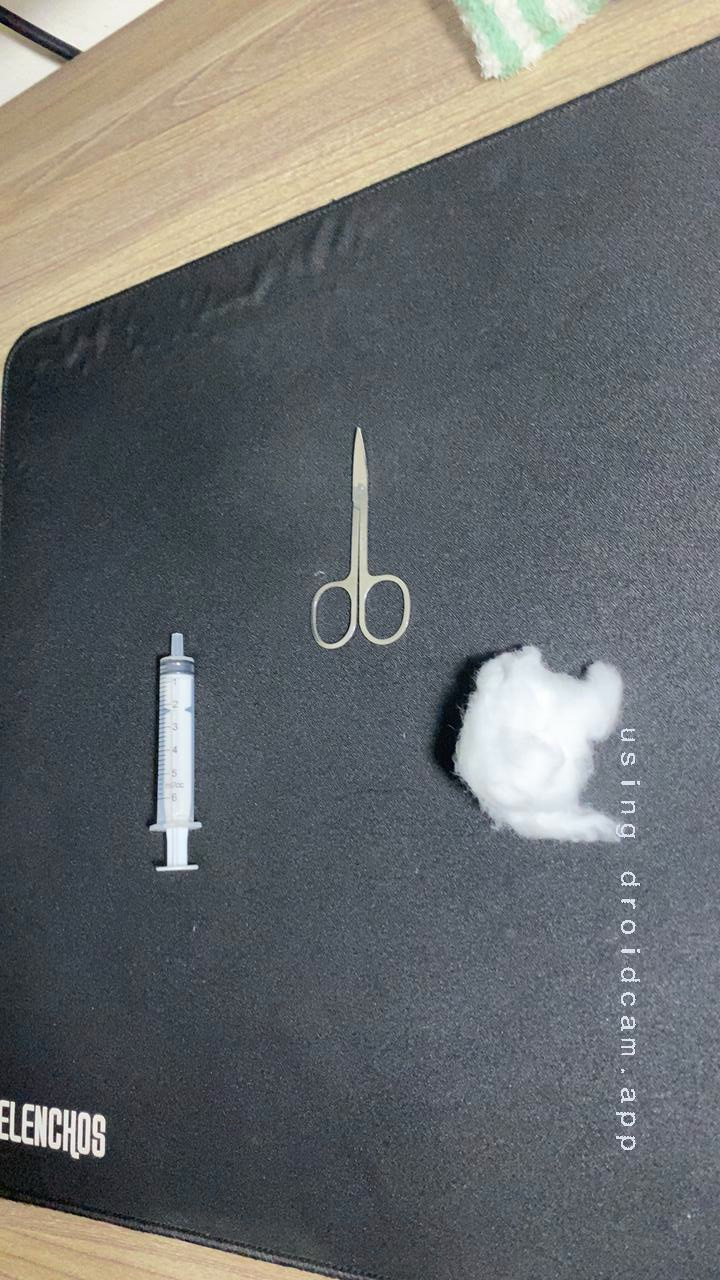cotton: (420, 632, 645, 850)
scissor: (300, 421, 431, 656)
syringe: (117, 622, 233, 885)
